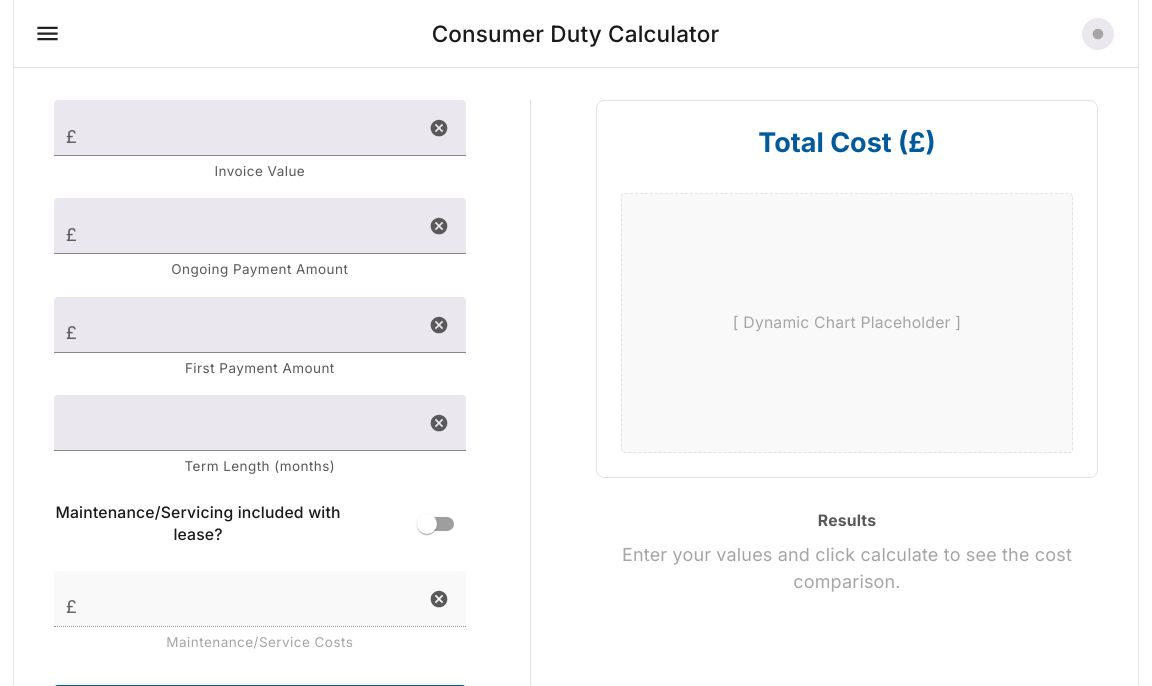
Test: Calculator UI & Maths Logic Suite › should clear the input when the cancel icon is clicked
Type "36" into the number field named "Term Length (months)" at (235, 423), box [54,397,416,450]
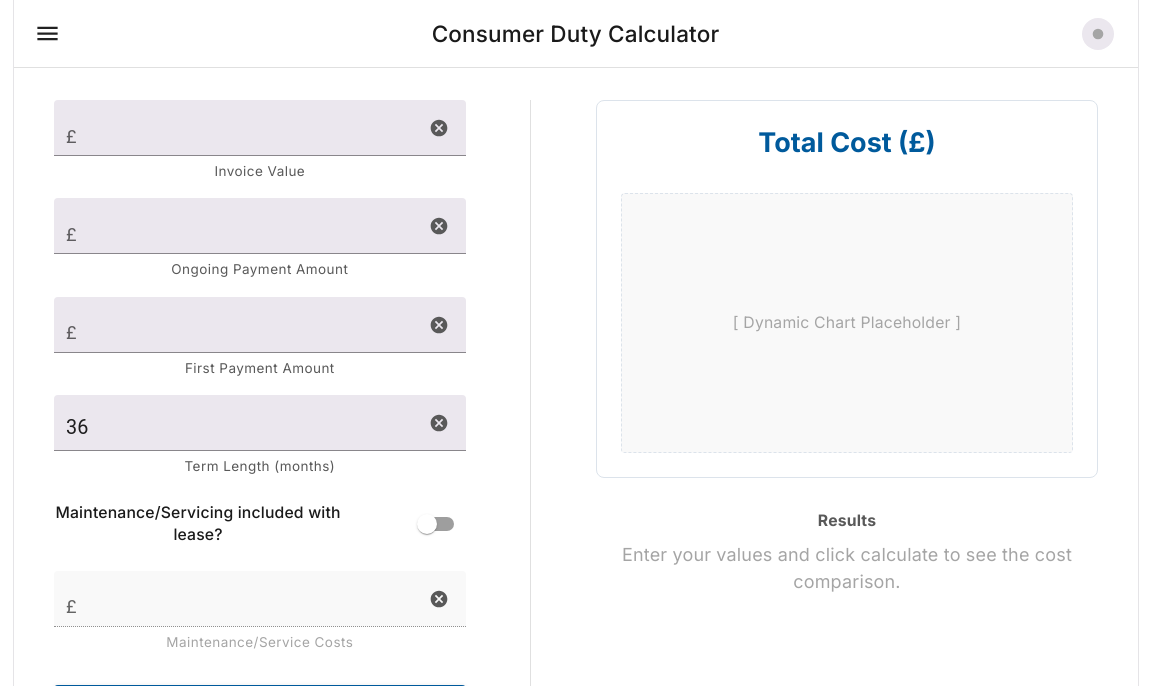
Click the button named "Clear Term Length (months)" at (439, 423), box [424,408,454,438]
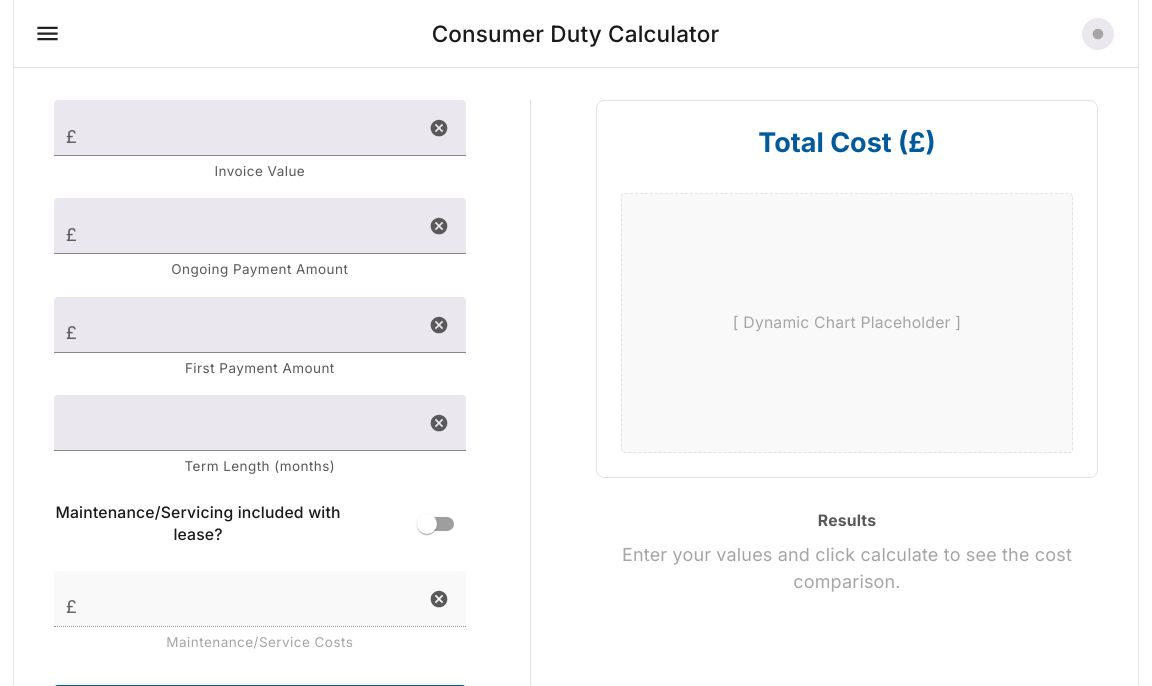
Check: the number field named "Term Length (months)" is empty, box [54,397,416,450]
